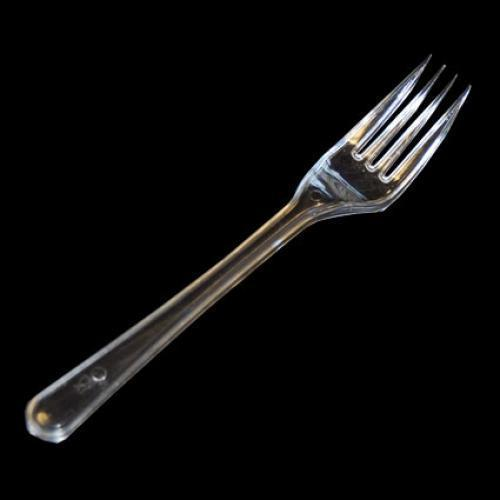Fork: (26, 54, 472, 444)
